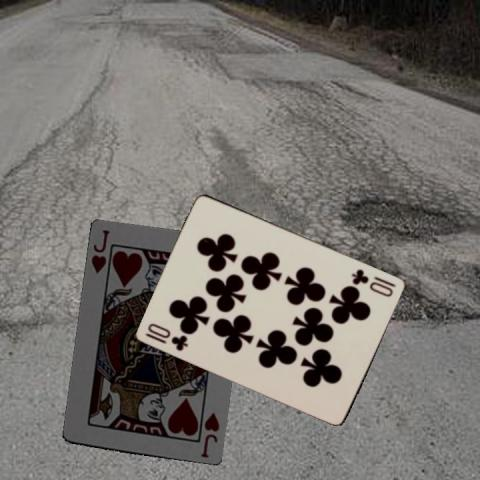10c: (349, 265, 397, 299), (143, 320, 190, 353)
Jh: (88, 228, 112, 276), (198, 410, 221, 460)
